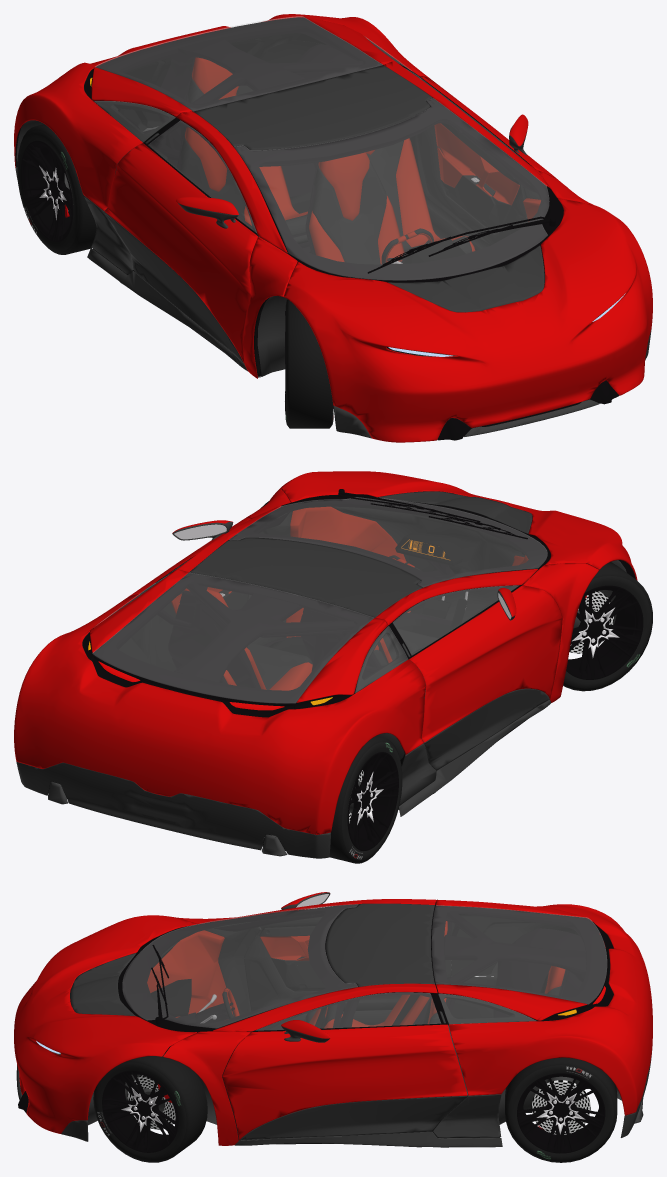
Rendered from coupe.glb.
The picture shows the model from 3 angles, top to bottom: view 1: azimuth 30°, elevation 25°; view 2: azimuth 150°, elevation 25°; view 3: azimuth 270°, elevation 25°; orthographic projection. The views are drawn at different scales.
Visible parts, largest first — view 1: BodyHood, BodyWindshield, BodyRearwindow, BodyDoorRColor1, BodyRearPanelsColor1, BodyRoofPanel, BodyWindshieldGasket, InteriorSeatsColor1, InteriorSeatsColor2, BodyPillars, InteriorPillar, InteriorRearHatch (+21 smaller); view 2: BodyRearPanelsColor1, BodyRearwindow, BodyWindshield, BodyPanelsColor2, BodyDoorRColor1, BodyRoofPanel, BodyHood, InteriorRearHatch, BodyPillars, InteriorPillar, BodyWindshieldGasket, InteriorDashMid (+21 smaller); view 3: BodyRearPanelsColor1, BodyWindshield, BodyDoorLColor1, BodyHood, BodyRearwindow, BodyRoofPanel, BodyPillars, BodyWindshieldGasket, BodyDoorLColor2, BodyPanelsColor2, WheelFrontL, InteriorRearHatch (+25 smaller).
Part boxes in pixels (x1,y1,x2,y2): BodyHood: (283,198,652,442); BodyWindshield: (234,98,549,280); BodyRearwindow: (95,16,382,110); BodyDoorRColor1: (104,143,257,363); BodyRearPanelsColor1: (14,14,428,210); BodyRoofPanel: (193,65,432,150); BodyWindshieldGasket: (234,99,563,282); InteriorSeatsColor1: (185,57,475,264); InteriorSeatsColor2: (180,78,472,264); BodyPillars: (176,61,598,378); InteriorPillar: (158,37,434,168); InteriorRearHatch: (93,17,383,117); BodyRearPanelsColor1: (14,569,425,834); BodyRearwindow: (92,573,373,703); BodyWindshield: (229,497,547,587); BodyPanelsColor2: (16,700,550,858); BodyDoorRColor1: (409,585,562,742); BodyRoofPanel: (189,537,422,617); BodyHood: (279,471,637,580); InteriorRearHatch: (93,573,386,707); BodyPillars: (175,489,599,702); InteriorPillar: (174,574,417,682); BodyWindshieldGasket: (230,497,550,587); InteriorDashMid: (331,503,528,622); BodyRearPanelsColor1: (436,899,652,1115); BodyWindshield: (122,904,357,1028); BodyDoorLColor1: (222,1024,467,1139); BodyHood: (14,915,196,1133); BodyRearwindow: (432,905,606,1003); BodyRoofPanel: (326,903,434,986); BodyPillars: (163,899,437,1145); BodyWindshieldGasket: (118,905,357,1032); BodyDoorLColor2: (240,1096,467,1140); BodyPanelsColor2: (16,1050,652,1147); WheelFrontL: (93,1054,207,1162); InteriorRearHatch: (431,905,606,1020).
Size of the model in its own units: 2.54 by 1.15 by 4.36.
22 materials, 5 textured.
